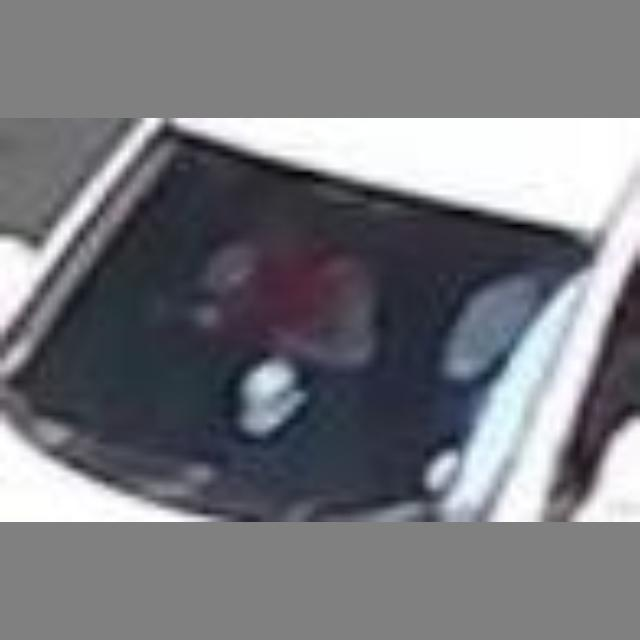tidak-pakai: (170, 203, 379, 405)
